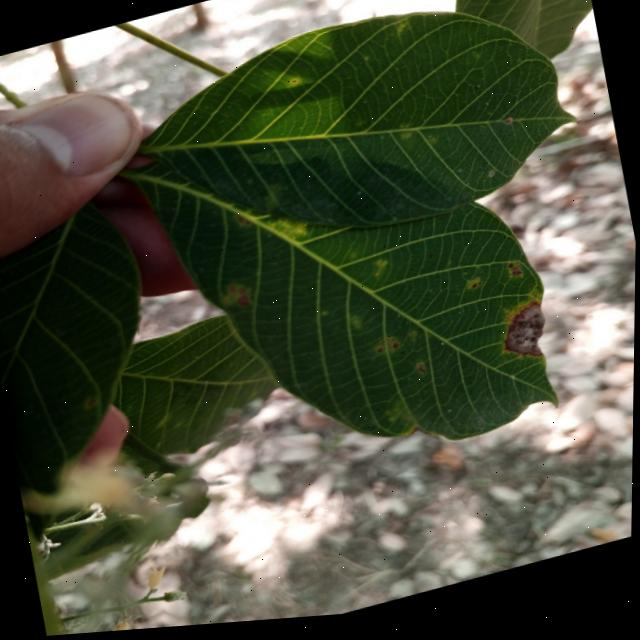Leaf-Blight: (498, 309, 552, 373)
